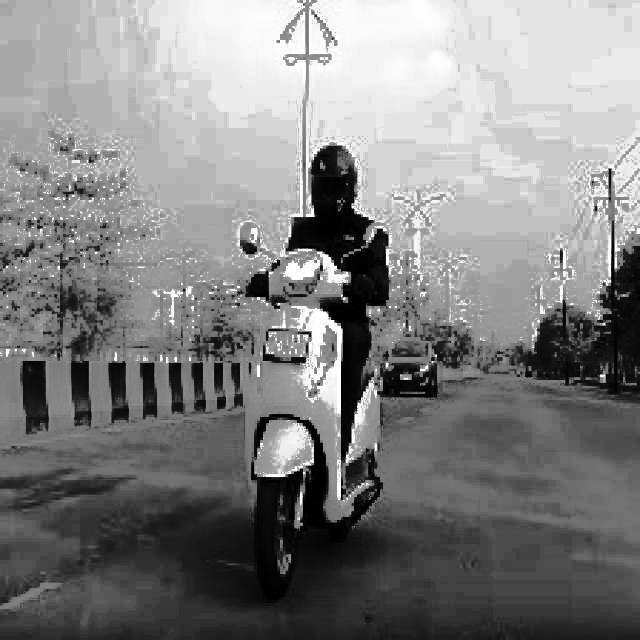Bike: (235, 218, 387, 596)
